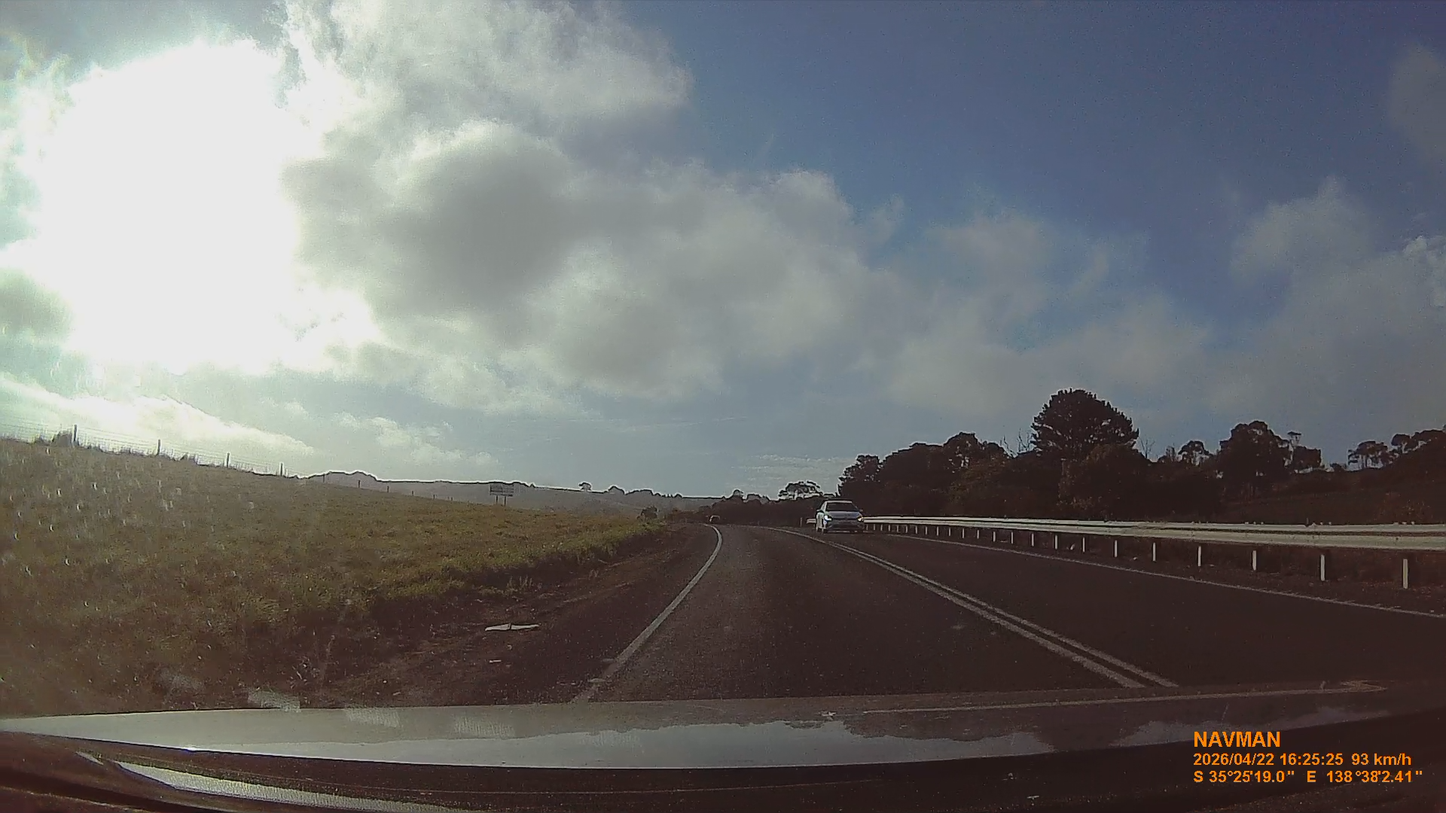road barriers: (846, 515, 1446, 589)
